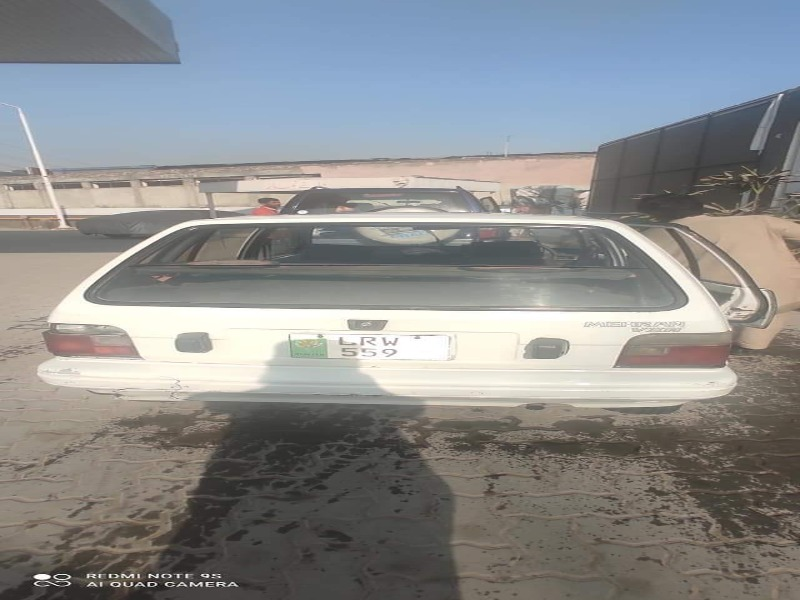License Plate: (285, 327, 458, 367)
